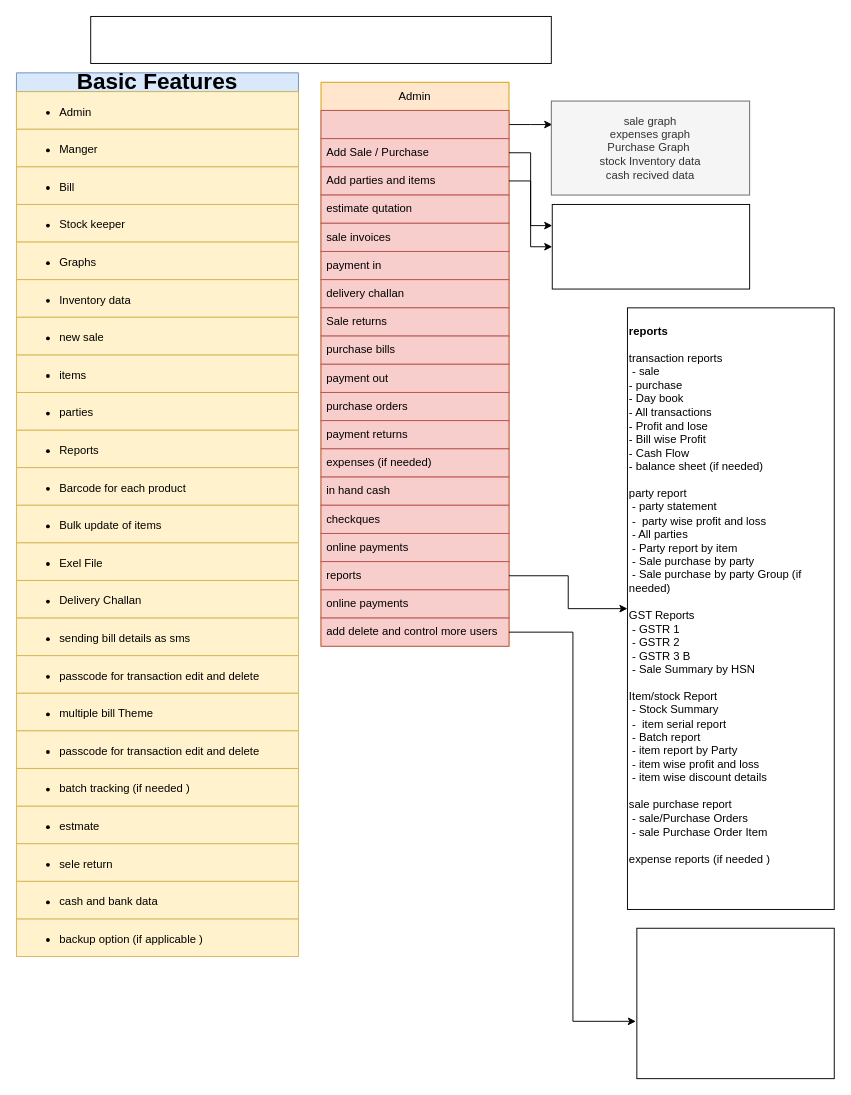
The diagram is 851 pixels wide and 1095 high, and some of its shapes have lost their labels. The centre of each missing label's shape, as x and y in pixels:
"GST Billing Software" belongs at [320,39].
"Home Dashboard" belongs at [414,124].
"normal page like adding data to sale" belongs at [650,246].
"users admin manager billing stock keeper" belongs at [735,1003].
